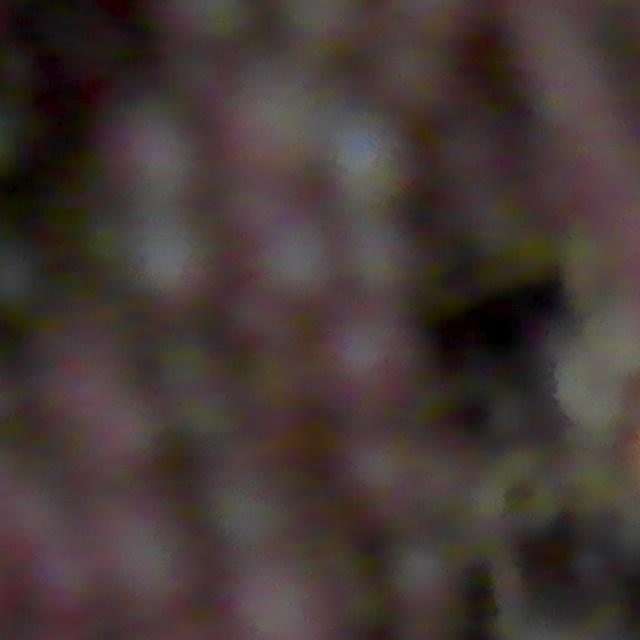SeaGrape: (326, 313, 410, 403), (235, 570, 310, 640), (338, 223, 400, 295), (266, 214, 321, 290), (0, 240, 42, 310), (0, 473, 45, 531)
